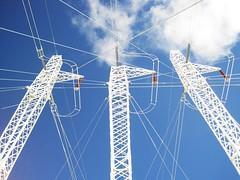power_tower: (0, 53, 85, 180), (164, 44, 240, 180), (99, 60, 158, 180)
